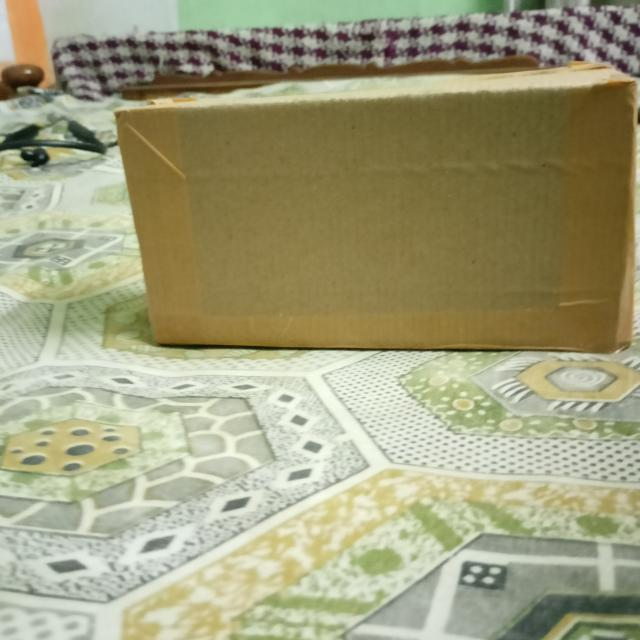box: (116, 93, 632, 353)
